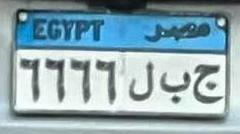6: (44, 58, 68, 102), (95, 58, 119, 101), (20, 58, 41, 102), (71, 58, 92, 101)
baa: (160, 71, 191, 105)
jeem: (193, 64, 222, 104)
laam: (127, 61, 157, 103)
